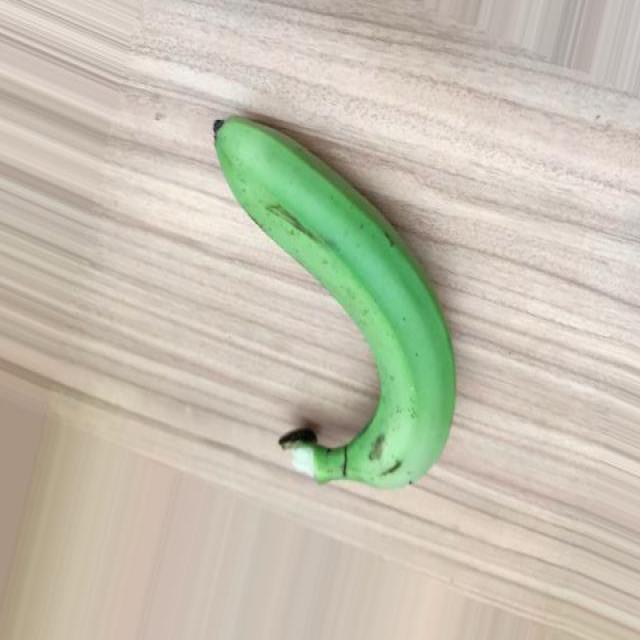Unripe: (211, 116, 457, 490)
